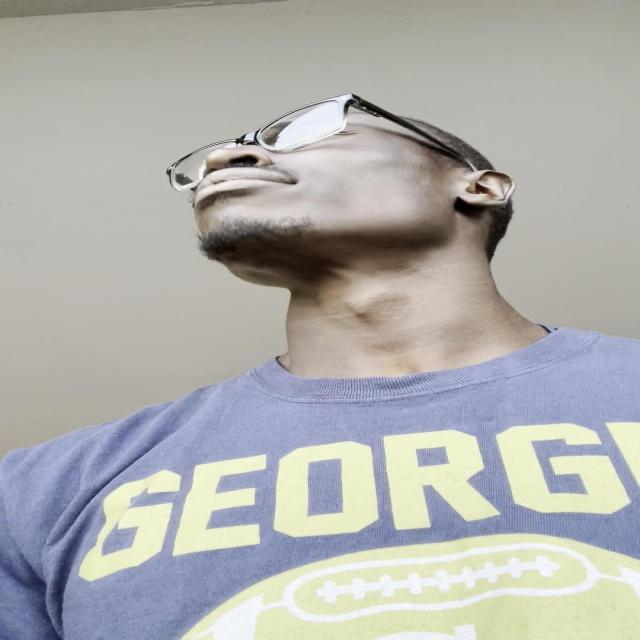NO-Mask: (167, 102, 476, 290)
